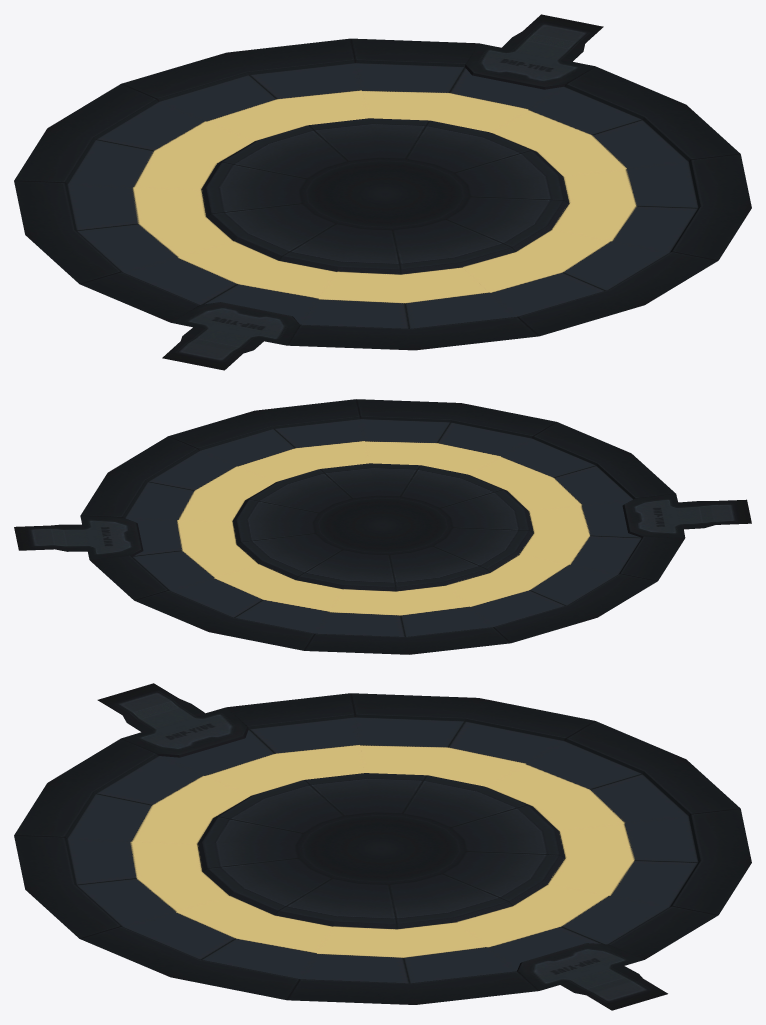
File: ts_cjdimi001.FBX
3 renders of one model, top to bottom at view 1: azimuth 30°, elevation 25°; view 2: azimuth 150°, elevation 25°; view 3: azimuth 270°, elevation 25°, orthographic. The views are drawn at different scales.
Parts seen in each view (by area): view 1: ts_cjdimi001; view 2: ts_cjdimi001; view 3: ts_cjdimi001.
Part boxes in pixels (x1=…): ts_cjdimi001: x1=14, y1=14, x2=751, y2=370; ts_cjdimi001: x1=14, y1=399, x2=751, y2=654; ts_cjdimi001: x1=14, y1=683, x2=751, y2=1010.
Bounding box in the file's own units: 24.77 × 0.1322 × 23.59.
